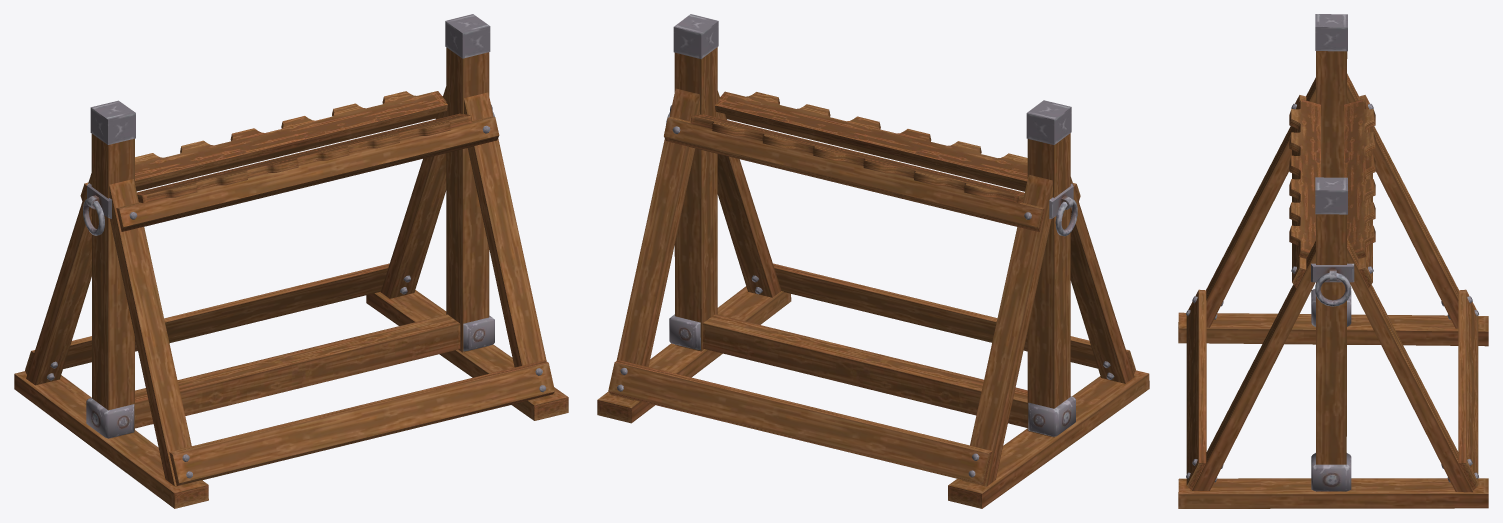
The model's file is weaponstand.glb.
The picture shows the model from 3 angles, left to right: view 1: azimuth 30°, elevation 25°; view 2: azimuth 150°, elevation 25°; view 3: azimuth 270°, elevation 25°; orthographic projection. The views are drawn at different scales.
Visible parts, largest first — view 1: WeaponStand; view 2: WeaponStand; view 3: WeaponStand.
Boxes of the visible parts, x1,y1,x2,y2 form: WeaponStand: (14,14,568,508); WeaponStand: (597,14,1149,508); WeaponStand: (1178,14,1488,508).
Size of the model in its own units: 1.39 by 1.11 by 0.9831.
2 materials, 2 textured.
